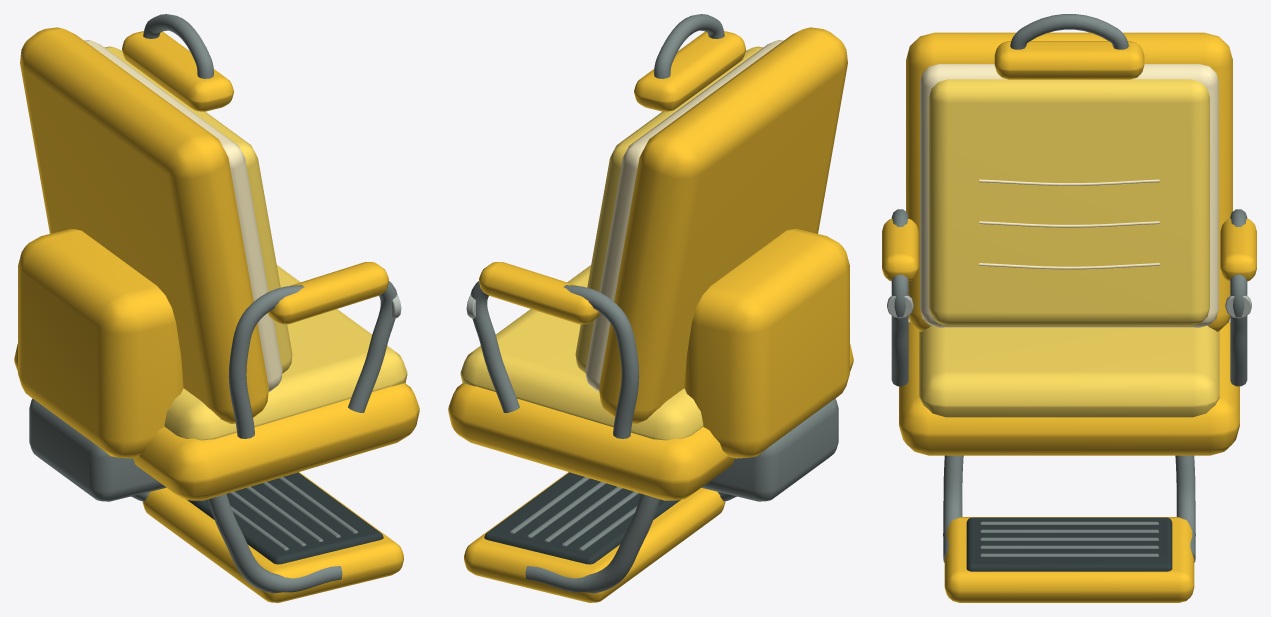
File: SM_BunkerLiftChair.fbx
The picture shows the model from 3 angles, left to right: view 1: azimuth 30°, elevation 25°; view 2: azimuth 150°, elevation 25°; view 3: azimuth 270°, elevation 25°; orthographic projection. The views are drawn at different scales.
Visible parts, largest first — view 1: SM_BunkerLiftChair; view 2: SM_BunkerLiftChair; view 3: SM_BunkerLiftChair.
Boxes of the visible parts, left/top/right/bottom form: SM_BunkerLiftChair: left=14, top=14, right=419, bottom=602; SM_BunkerLiftChair: left=448, top=14, right=853, bottom=602; SM_BunkerLiftChair: left=882, top=14, right=1256, bottom=602.
Size of what is drawn, in the model's own units: 50.95 by 95.98 by 61.6.
